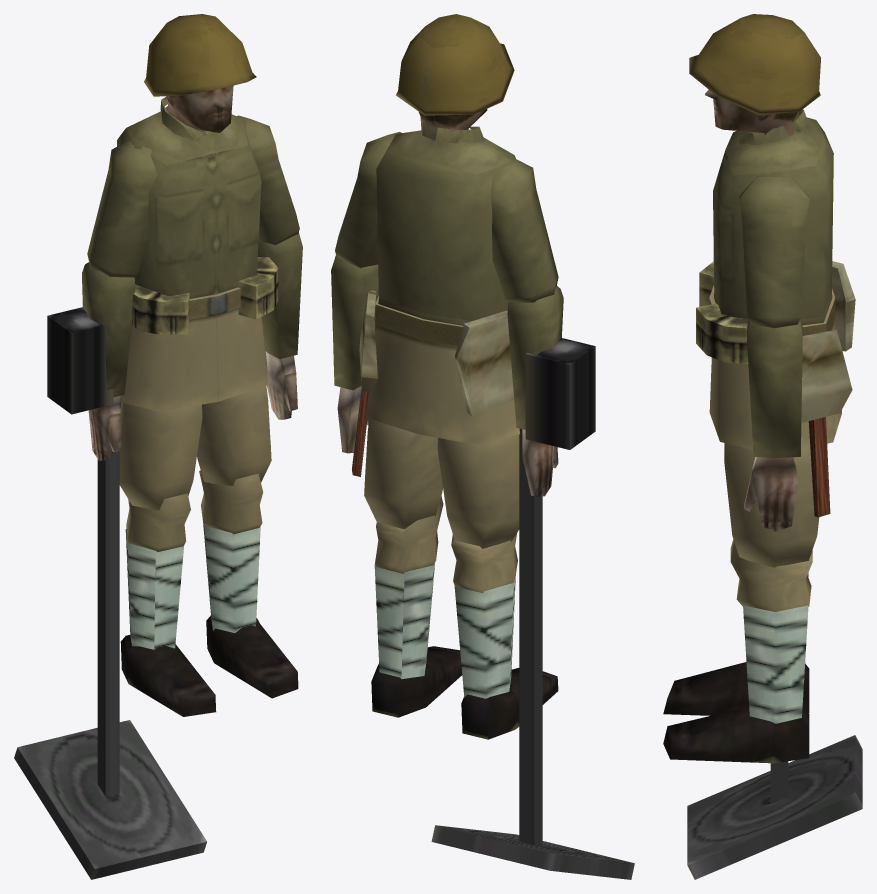
Rendered from esrhqengineer.dae.
3 views of the same model, side by side, from view 1: azimuth 30°, elevation 25°; view 2: azimuth 150°, elevation 25°; view 3: azimuth 270°, elevation 25° (orthographic). The views are drawn at different scales.
Parts seen in each view (by area): view 1: torso, detector, head, lleg, rleg, rthigh, ruparm, lthigh, rloarm, lloarm, rfoot, lfoot (+1 smaller); view 2: torso, detector, head, lleg, rleg, rthigh, ruparm, lthigh, lloarm, rloarm, luparm, lfoot (+1 smaller); view 3: torso, detector, head, lleg, lloarm, luparm, lfoot, lthigh, rfoot.
Boxes of the visible parts, x1,y1,x2,y2 form: torso: (117,96,278,411); detector: (14,307,206,879); head: (144,14,256,132); lleg: (199,470,263,632); rleg: (125,493,190,649); rthigh: (119,402,202,510); ruparm: (87,140,157,277); lthigh: (197,386,271,485); rloarm: (82,262,135,460); lloarm: (257,232,302,419); rfoot: (120,635,216,716); lfoot: (206,615,298,698); torso: (352,121,519,476); detector: (431,338,634,879); head: (396,14,514,132); lleg: (374,496,443,679); rleg: (451,533,517,698); rthigh: (437,434,519,548); ruparm: (490,156,558,302); lthigh: (364,419,442,529); lloarm: (331,255,378,453); rloarm: (507,286,563,496); luparm: (335,131,401,268); lfoot: (371,646,462,717); torso: (696,109,855,517); detector: (687,735,862,879); head: (689,14,820,135); lleg: (730,539,812,723); lloarm: (744,318,802,531); luparm: (739,176,809,328); lfoot: (663,706,809,763); lthigh: (724,443,819,567); rfoot: (663,662,809,715).
Size of the model in its own units: 5.51 by 3.62 by 17.47.
Materials: 1 (1 with a texture image).
